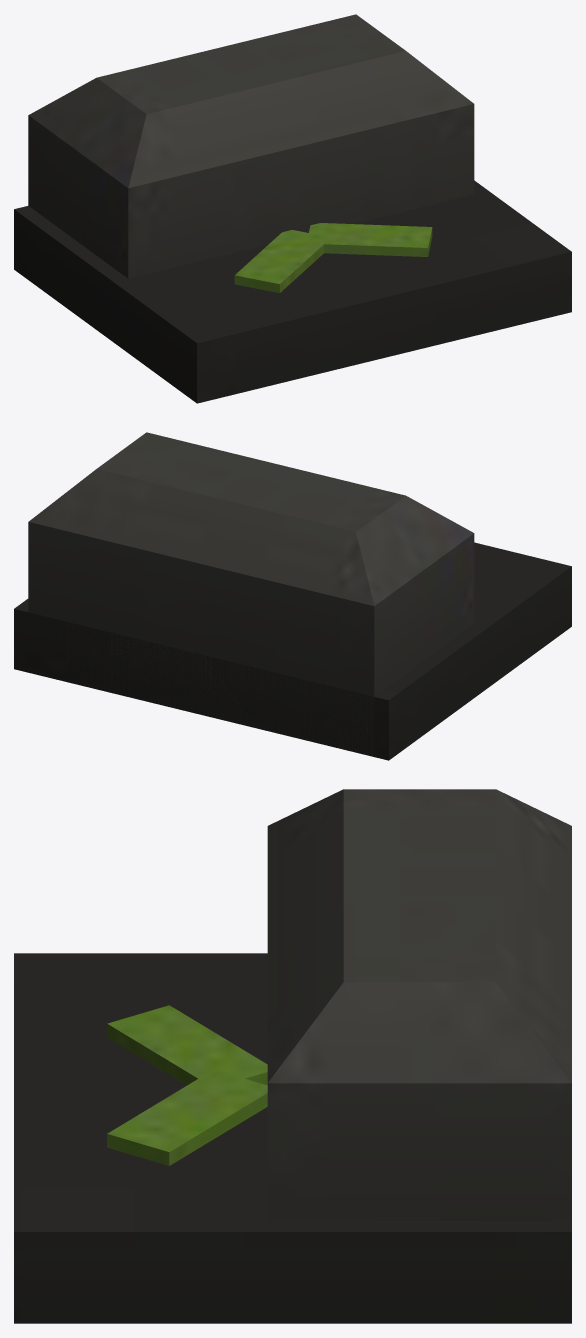
File: turbo-underground-belt.glb
The picture shows the model from 3 angles, top to bottom: view 1: azimuth 30°, elevation 25°; view 2: azimuth 150°, elevation 25°; view 3: azimuth 270°, elevation 25°; orthographic projection. The views are drawn at different scales.
Parts seen in each view (by area): view 1: turbo-underground-belt; view 2: turbo-underground-belt; view 3: turbo-underground-belt.
Boxes of the visible parts, <box> form: turbo-underground-belt: <box>14,14,571,403</box>; turbo-underground-belt: <box>14,432,571,760</box>; turbo-underground-belt: <box>14,789,571,1323</box>.
Bounding box in the file's own units: 0.26 × 0.13 × 0.22.
1 material, 1 textured.
